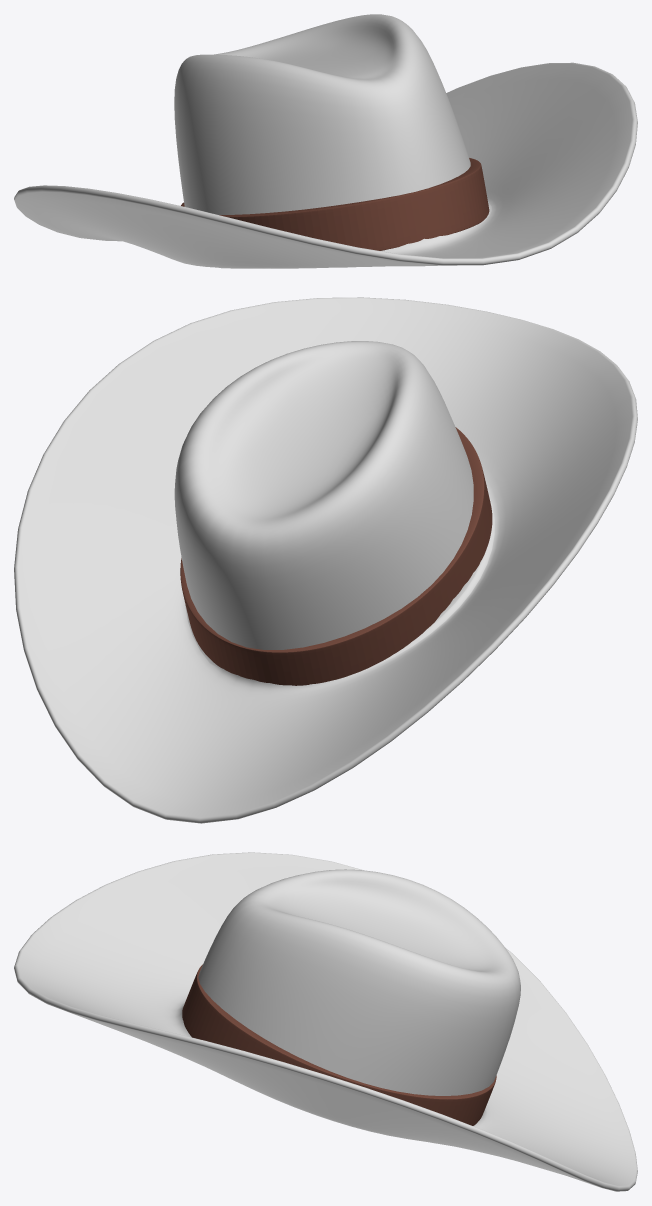
File: Cowboy Hat.fbx
3 views of the same model, one above another, from view 1: azimuth 30°, elevation 25°; view 2: azimuth 150°, elevation 25°; view 3: azimuth 270°, elevation 25° (orthographic). The views are drawn at different scales.
Visible parts, largest first — view 1: Circle.001, Cylinder.007; view 2: Circle.001, Cylinder.007; view 3: Circle.001, Cylinder.007.
Boxes of the visible parts, x1,y1,x2,y2 form: Circle.001: (14,14,637,268); Cylinder.007: (181,158,489,250); Circle.001: (14,297,637,823); Cylinder.007: (180,427,492,685); Circle.001: (14,852,637,1191); Cylinder.007: (182,964,496,1125).
Bounding box in the file's own units: 374 × 220 × 448.
